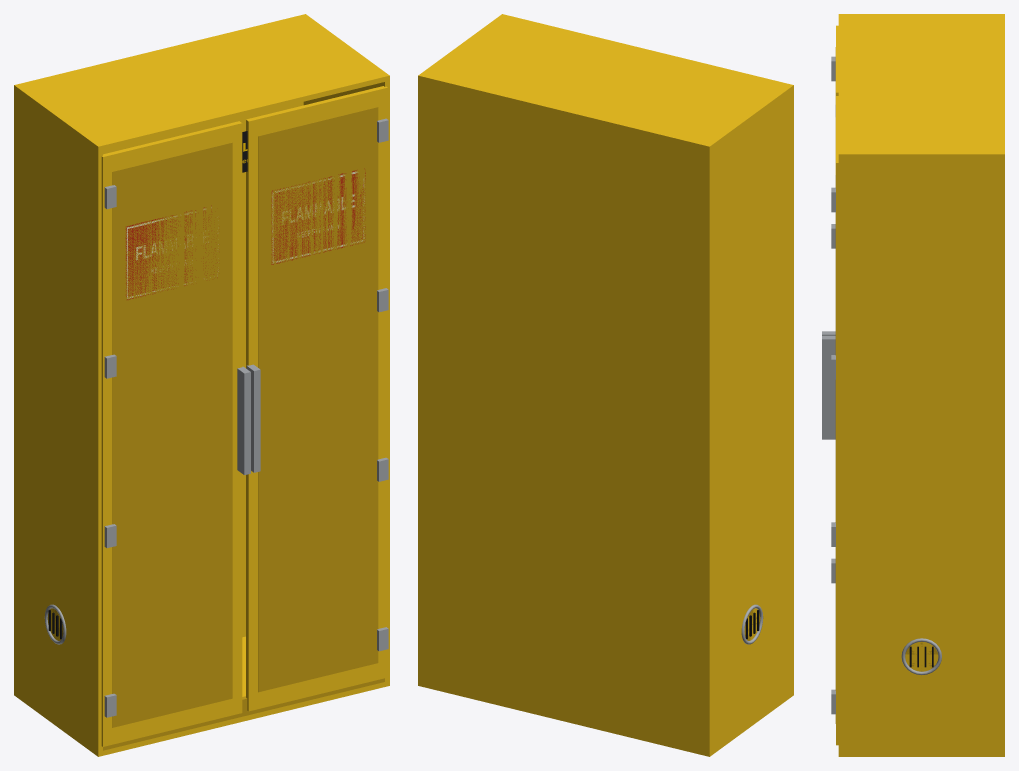
Rendered from 06_safety_cabinet_yellow.glb.
The picture shows the model from 3 angles, left to right: view 1: azimuth 30°, elevation 25°; view 2: azimuth 150°, elevation 25°; view 3: azimuth 270°, elevation 25°; orthographic projection.
Size of the model in its own units: 91.2 by 180 by 49.5.
Materials: 7 (2 with a texture image).
